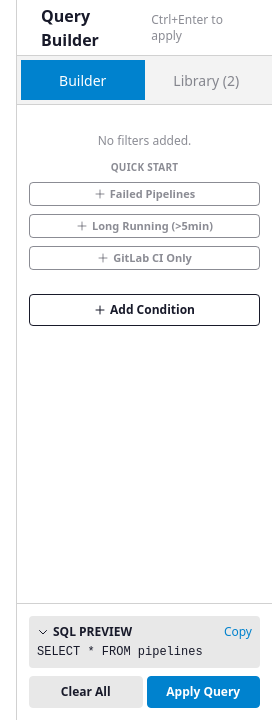
Test: QueryBuilderSidebar › adds condition when template is clicked
Click the button "Failed Pipelines". click: click(144, 194)
box: [29,182,260,206]
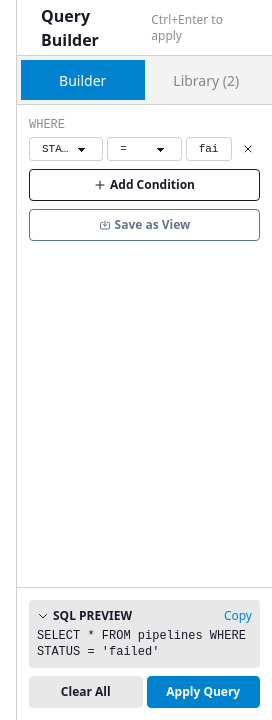
Check: the field showing "failed" is shown, box [186,137,232,161]
